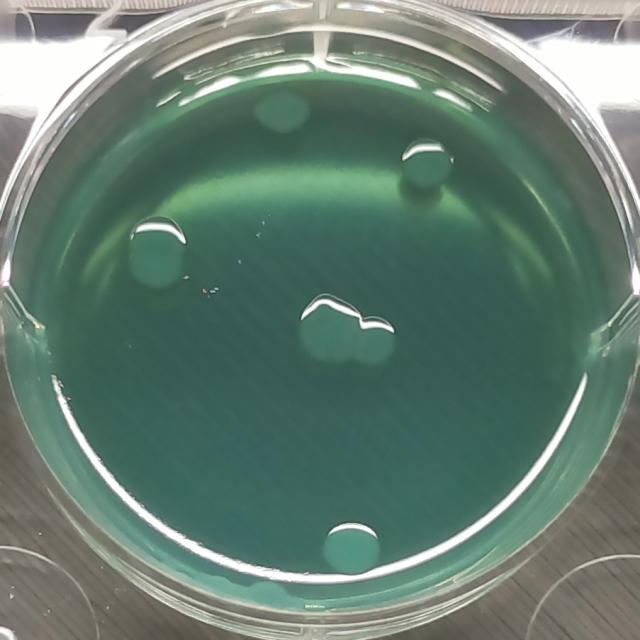vibrio: (114, 213, 195, 292), (289, 284, 364, 365), (388, 133, 460, 205), (317, 512, 388, 580), (250, 80, 318, 142), (352, 313, 407, 374)
